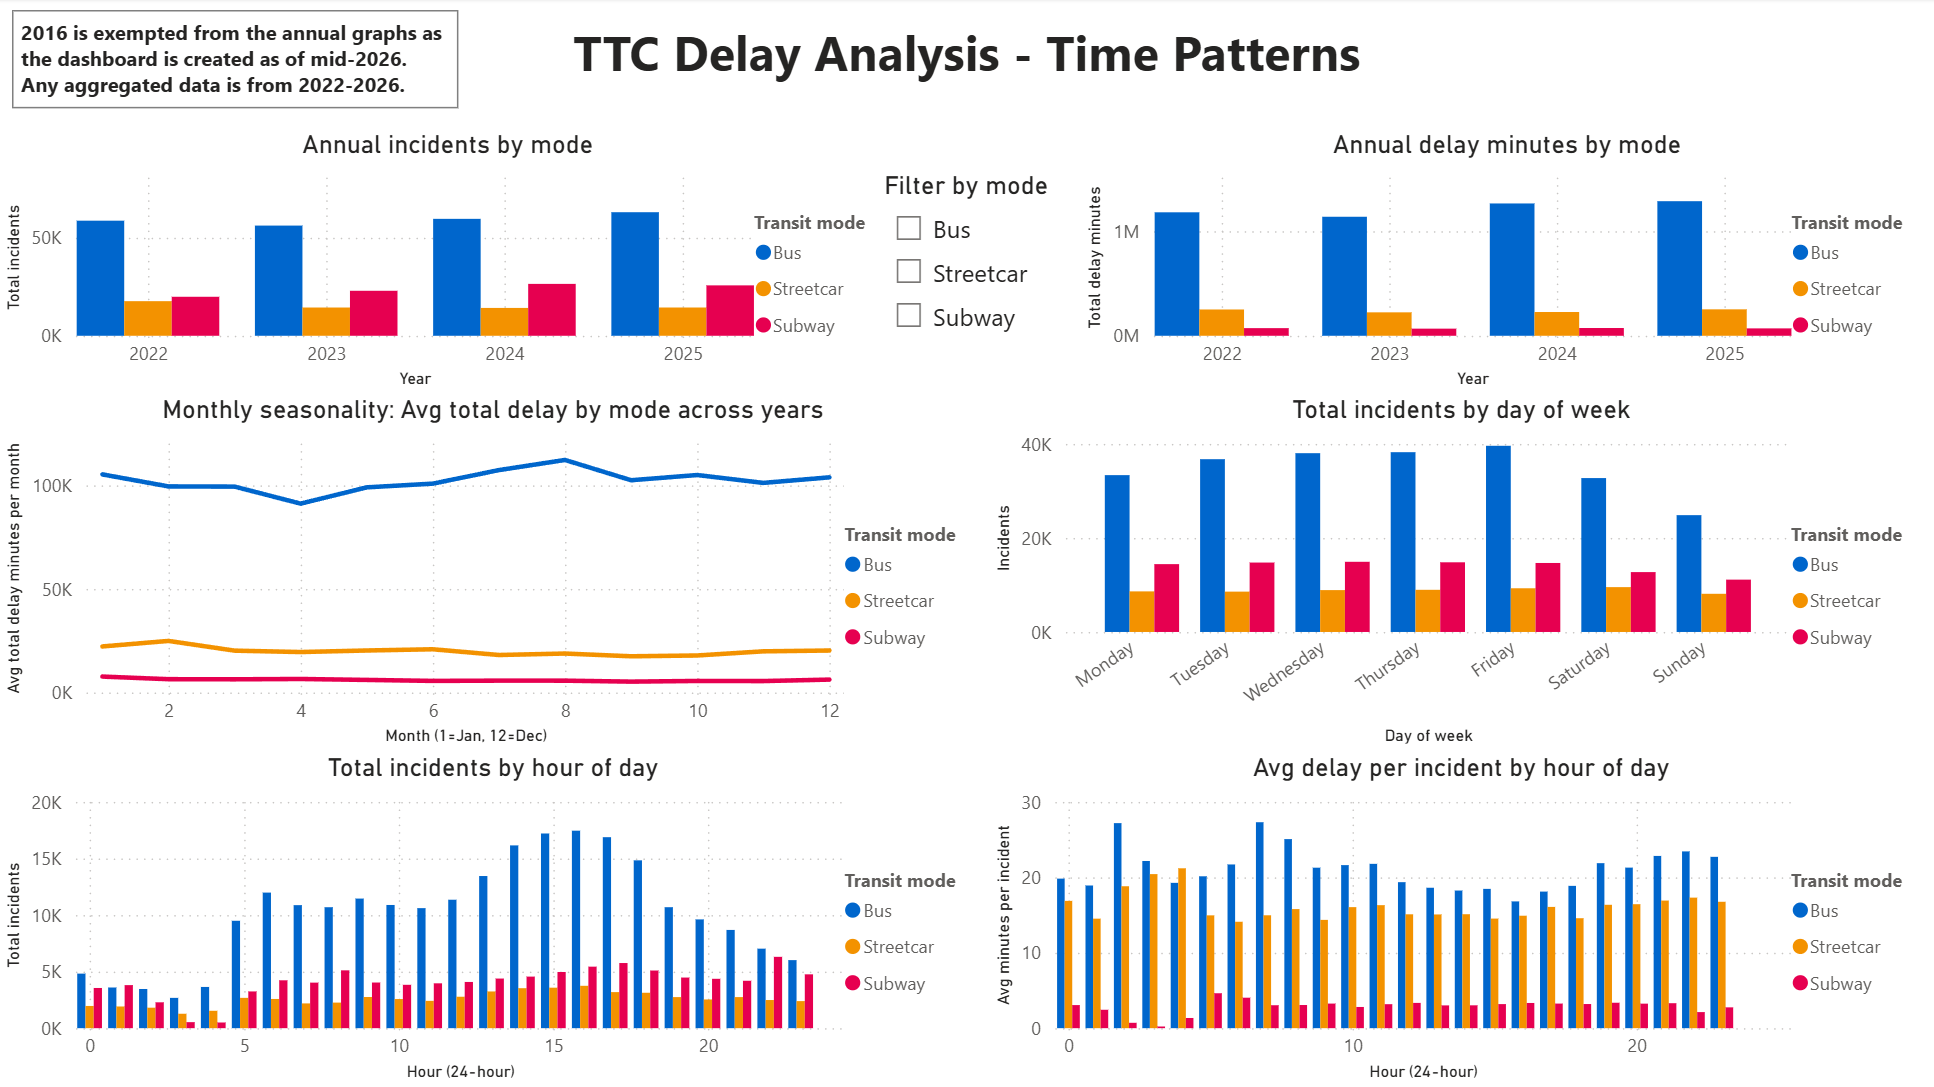

Layout of this report page (visuals, bound fields, positions):
{"tool":"powerbi","page":{"name":"Time Patterns","canvas":[1280,720],"ordinal":3},"visuals":[{"type":"textbox","box":[370.7,7.8,539.4,56.7],"z":0},{"type":"clusteredColumnChart","title":"Annual incidents by mode","fields":{"Category":["public vw_incidents_by_mode_year_month.year"],"Y":["Sum(public vw_incidents_by_mode_year_month.incident_count)"],"Series":["public vw_incidents_by_mode_year_month.transit_mode"]},"box":[0,86.3,594.5,175.6],"z":1000},{"type":"clusteredColumnChart","title":"Annual delay minutes by mode","fields":{"Category":["public vw_incidents_by_mode_year_month.year"],"Y":["Sum(public vw_incidents_by_mode_year_month.total_delay_minutes)"],"Series":["public vw_incidents_by_mode_year_month.transit_mode"]},"box":[714.2,86.3,565.8,175.6],"z":2000},{"type":"textbox","box":[9.3,7.8,294.5,64.5],"z":3000},{"type":"lineChart","title":"Monthly seasonality: Avg total delay by mode across years","fields":{"Category":["public vw_incidents_by_mode_year_month.month"],"Y":["Avg(public vw_incidents_by_mode_year_month.total_delay_minutes)"],"Series":["public vw_incidents_by_mode_year_month.transit_mode"]},"box":[0,261.9,654.4,236.3],"z":4000},{"type":"clusteredColumnChart","title":"Avg delay per incident by hour of day","fields":{"Category":["public vw_incidents_by_hour.hour"],"Y":["Avg(public vw_incidents_by_hour.avg_delay_minutes)"],"Series":["public vw_incidents_by_hour.transit_mode"]},"box":[654.4,498.2,625.6,221.5],"z":5000},{"type":"clusteredColumnChart","title":"Total incidents by hour of day","fields":{"Category":["public vw_incidents_by_hour.hour"],"Y":["Sum(public vw_incidents_by_hour.incident_count)"],"Series":["public vw_incidents_by_hour.transit_mode"]},"box":[0,498.2,654.4,221.5],"z":6000},{"type":"slicer","title":"Filter by mode","fields":{"Values":["public dim_mode.transit_mode"]},"box":[580.5,113.5,119.7,120.5],"z":7000},{"type":"clusteredColumnChart","title":"Total incidents by day of week","fields":{"Category":["public vw_incidents_by_dow.day_of_week"],"Y":["Sum(public vw_incidents_by_dow.incident_count)"],"Series":["public vw_incidents_by_dow.transit_mode"]},"box":[654.4,261.9,625.6,236.3],"z":8000}]}

Visuals, with their boxes in screenshot pixels (x1, y1, x2, y2), scaled from the page's 1280x720 canvas onto the 1934x1087 screenshot:
textbox: rect(560, 12, 1375, 97)
"Annual incidents by mode" clusteredColumnChart: rect(0, 130, 898, 395)
"Annual delay minutes by mode" clusteredColumnChart: rect(1079, 130, 1933, 395)
textbox: rect(14, 12, 459, 109)
"Monthly seasonality: Avg total delay by mode across years" lineChart: rect(0, 395, 989, 752)
"Avg delay per incident by hour of day" clusteredColumnChart: rect(989, 752, 1933, 1086)
"Total incidents by hour of day" clusteredColumnChart: rect(0, 752, 989, 1086)
"Filter by mode" slicer: rect(877, 171, 1058, 353)
"Total incidents by day of week" clusteredColumnChart: rect(989, 395, 1933, 752)
